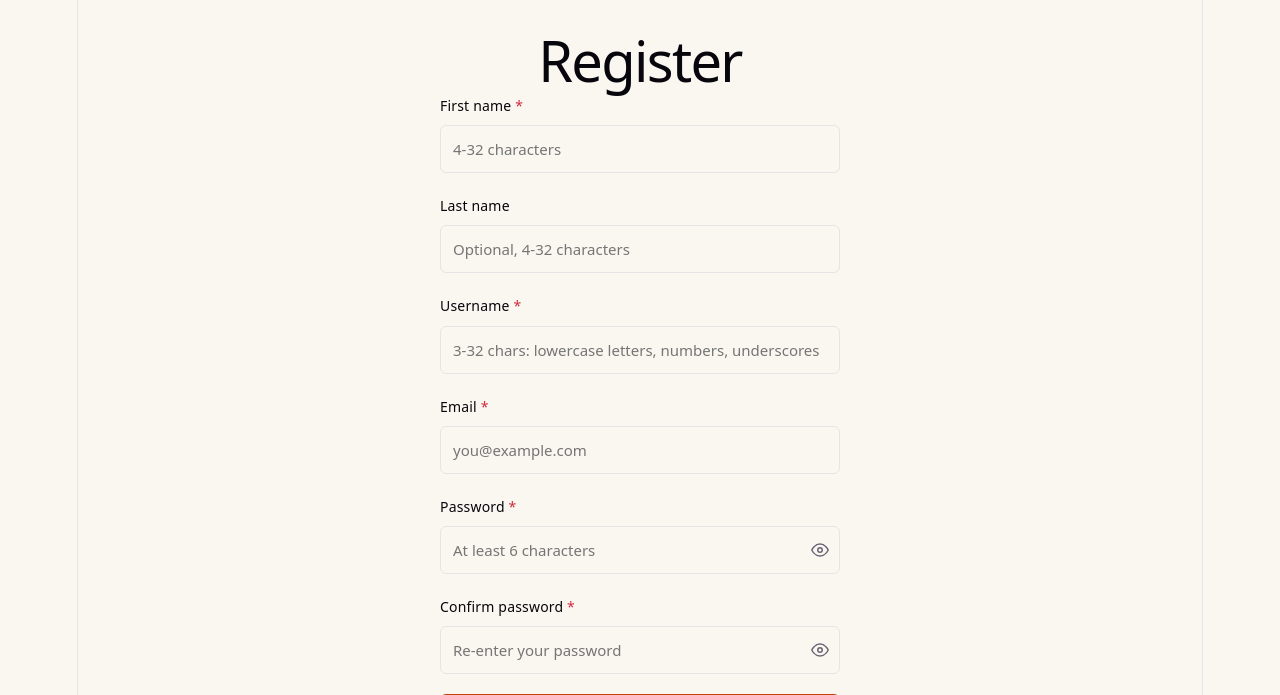
Test: Register › shows a friendly message when the email is already registered
In the field labelled "First name *": coordinates (640, 149) [440,125,840,173], type "Alex"
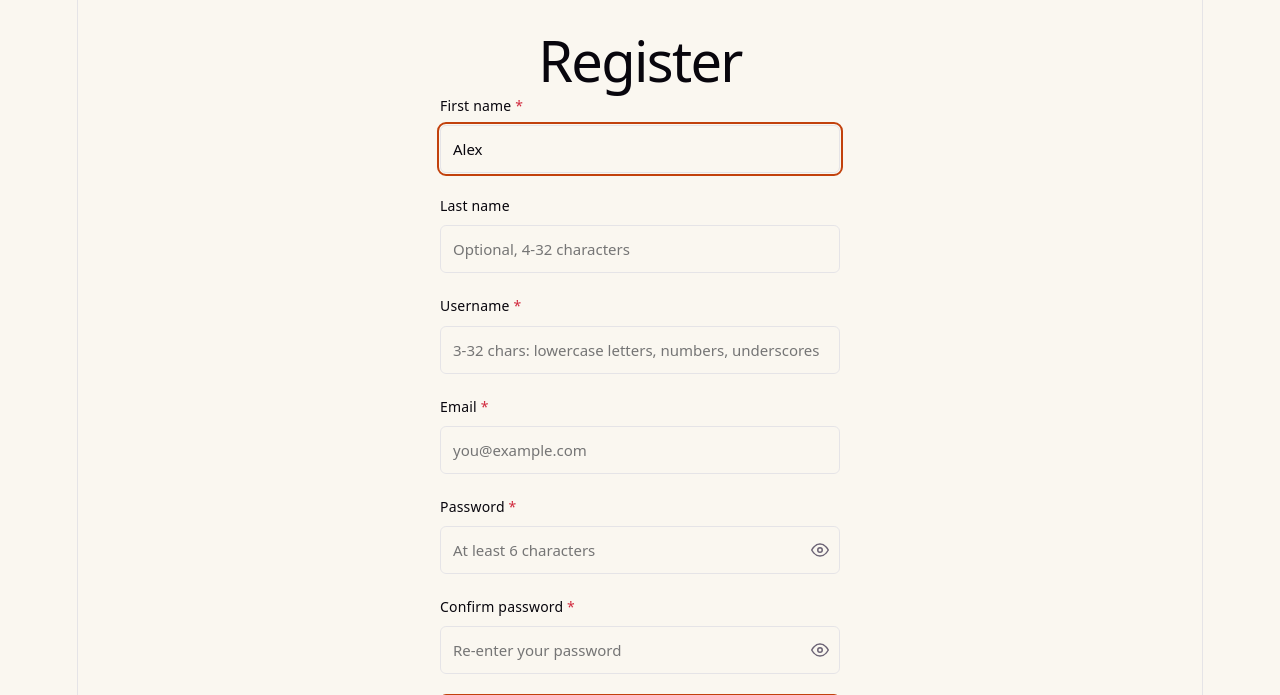
In the field labelled "Username *": coordinates (640, 350) [440,326,840,374], type "alexr"
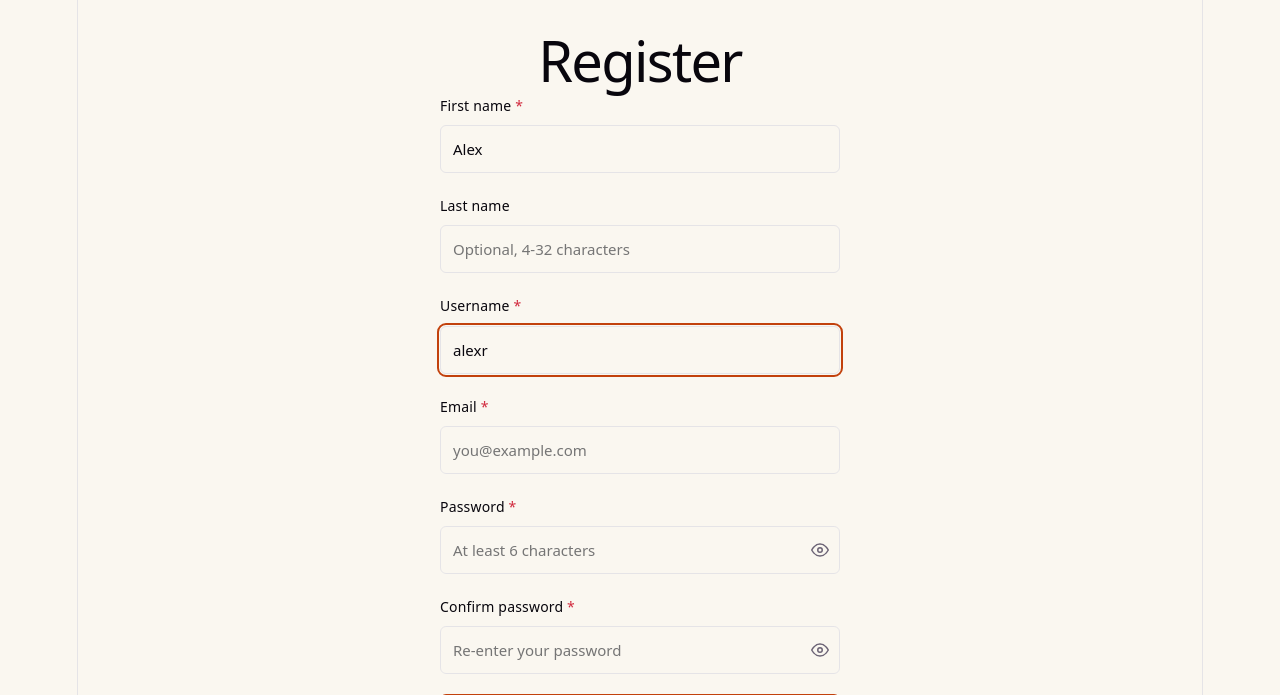
In the field labelled "Email *": coordinates (640, 450) [440,426,840,474], type "alex@example.com"
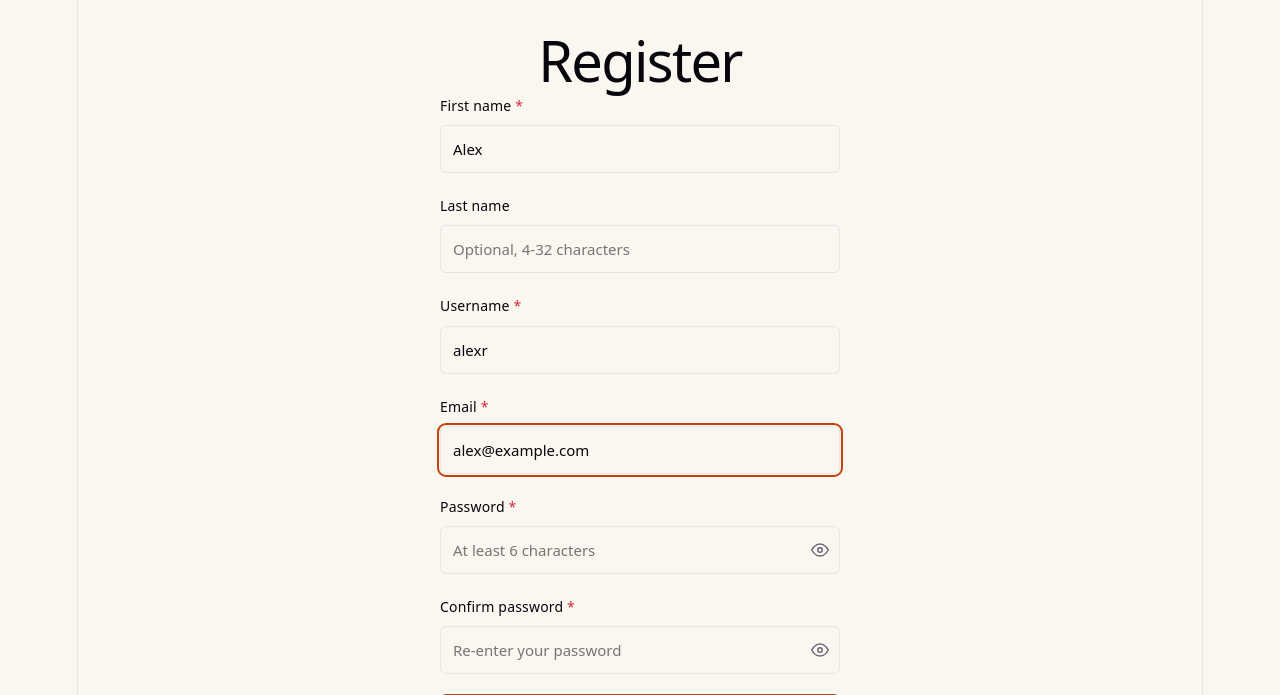
In the password field labelled "Password *": coordinates (640, 550) [440,526,840,574], type "password123"
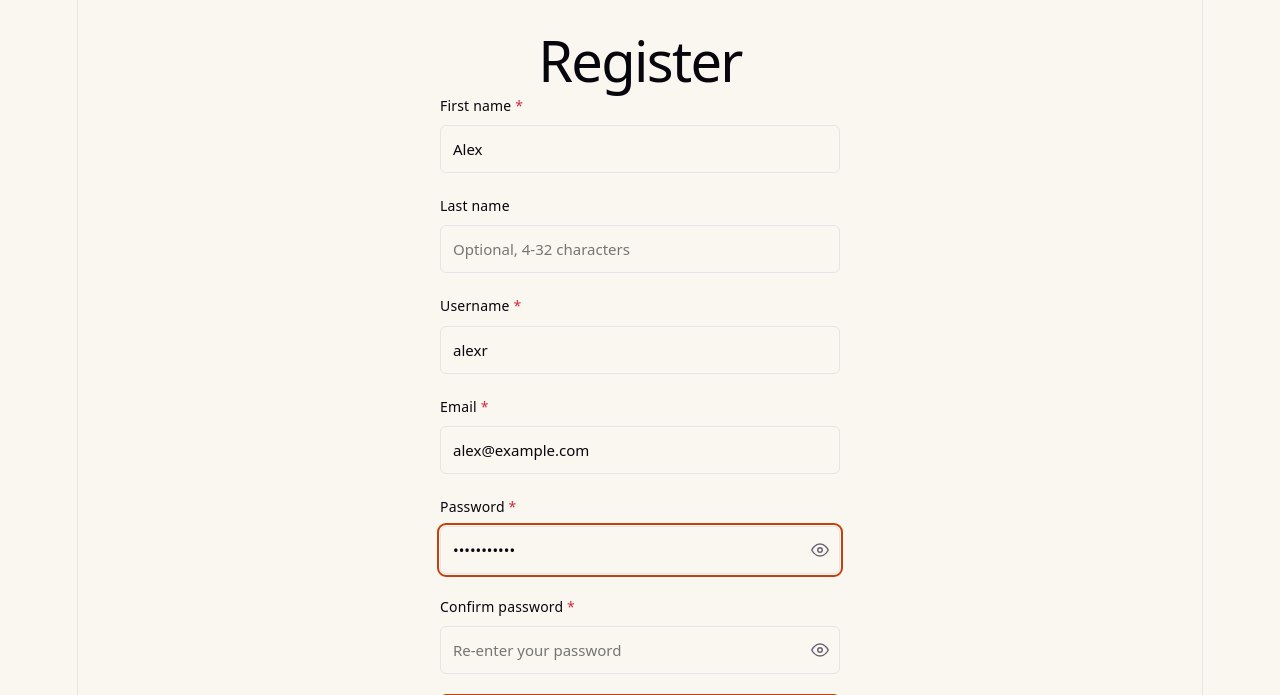
In the password field labelled "Confirm password *": coordinates (640, 650) [440,626,840,674], type "password123"
(page scrolled)
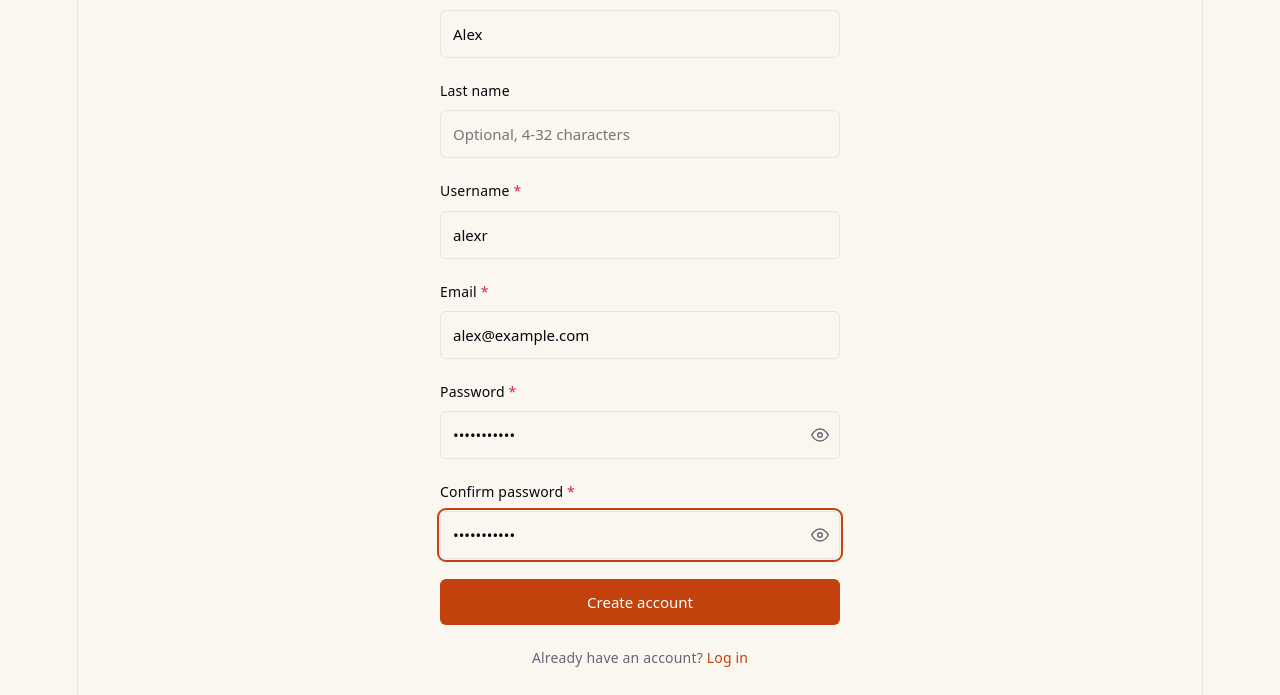
Click the button "Create account": coordinates (640, 602) [440,579,840,625]
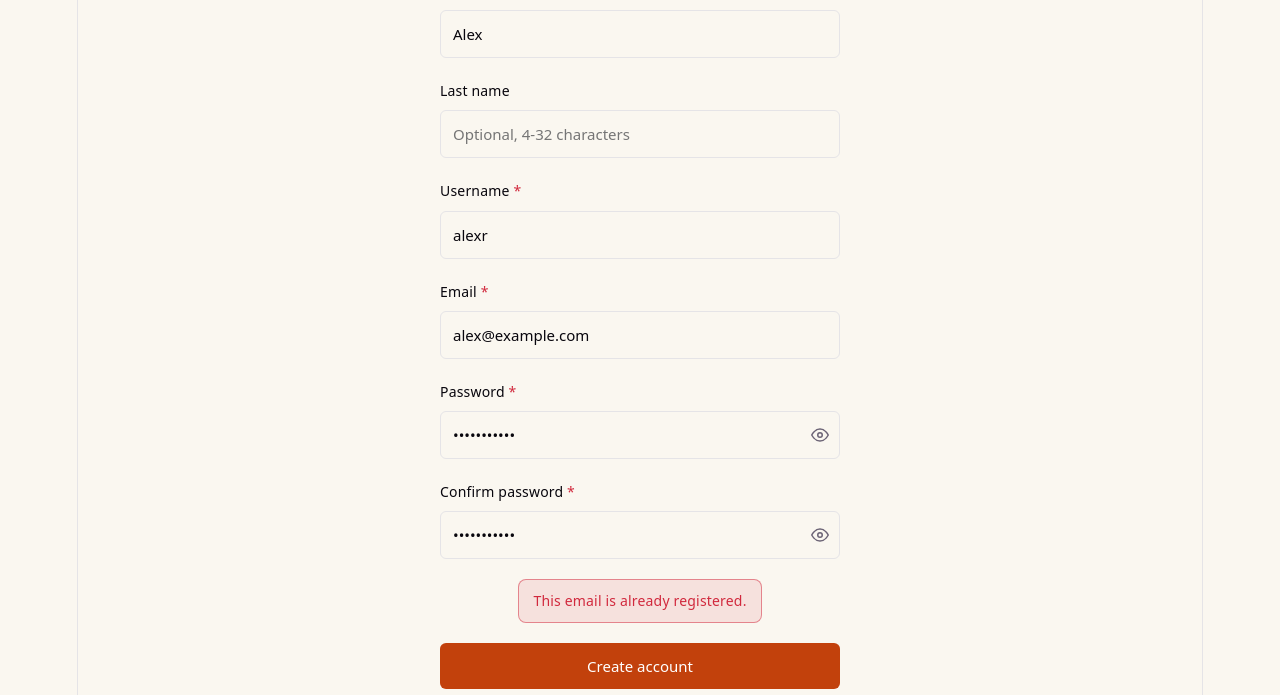
Result: the text "This email is already registered." is shown at [518,579,762,623]
